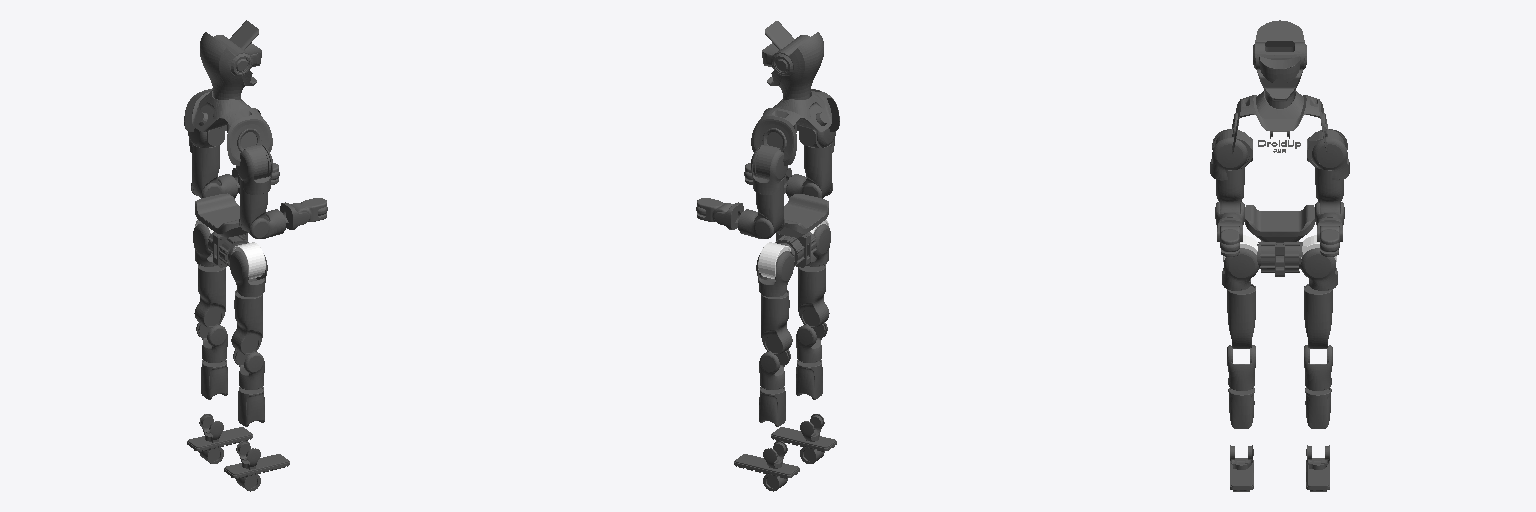
--- What the picture shows (computed from the rendered views, not written in the file) ---
Views: 3 orthographic renders of the robot side by side, from view 1: azimuth 30°, elevation 25°; view 2: azimuth 150°, elevation 25°; view 3: azimuth 270°, elevation 25°.
Robot: E1 — 30 links, 29 joints (12 revolute, 17 fixed); root link pelvis; default pose: all joints at 0.
Visible links, largest first — view 1: torso_link, right_knee_link, left_knee_link, left_hip_yaw_link, right_hip_yaw_link, right_ankle_pitch_link, left_ankle_pitch_link, left_shoulder_yaw_link, right_hip_roll_link, right_shoulder_roll_link, right_shoulder_yaw_link, pelvis (+4 smaller); view 2: torso_link, left_knee_link, right_knee_link, right_hip_yaw_link, left_hip_yaw_link, left_ankle_pitch_link, right_ankle_pitch_link, right_shoulder_yaw_link, left_hip_roll_link, left_shoulder_roll_link, left_shoulder_yaw_link, pelvis (+4 smaller); view 3: torso_link, left_knee_link, right_knee_link, left_hip_yaw_link, right_hip_yaw_link, pelvis, right_shoulder_roll_link, left_hip_roll_link, left_shoulder_roll_link, right_hip_roll_link, left_shoulder_yaw_link, right_shoulder_yaw_link (+2 smaller).
Boxes of the visible links, x1,y1,x2,y2 form: torso_link: [184, 20, 272, 237]; right_knee_link: [233, 349, 264, 426]; left_knee_link: [196, 322, 227, 399]; left_hip_yaw_link: [194, 264, 225, 327]; right_hip_yaw_link: [231, 290, 262, 354]; right_ankle_pitch_link: [224, 441, 289, 478]; left_ankle_pitch_link: [187, 414, 252, 451]; left_shoulder_yaw_link: [192, 144, 221, 198]; right_hip_roll_link: [230, 251, 267, 296]; right_shoulder_roll_link: [236, 145, 272, 194]; right_shoulder_yaw_link: [240, 178, 269, 233]; pelvis: [208, 232, 248, 267]; torso_link: [751, 21, 839, 237]; left_knee_link: [759, 349, 790, 426]; right_knee_link: [796, 322, 827, 399]; right_hip_yaw_link: [798, 264, 829, 327]; left_hip_yaw_link: [761, 290, 792, 354]; left_ankle_pitch_link: [734, 441, 799, 478]; right_ankle_pitch_link: [771, 414, 836, 451]; right_shoulder_yaw_link: [802, 144, 831, 198]; left_hip_roll_link: [756, 251, 793, 296]; left_shoulder_roll_link: [751, 145, 787, 194]; left_shoulder_yaw_link: [754, 178, 783, 233]; pelvis: [775, 232, 816, 267]; torso_link: [1232, 20, 1327, 241]; left_knee_link: [1304, 345, 1332, 428]; right_knee_link: [1227, 345, 1255, 428]; left_hip_yaw_link: [1304, 284, 1332, 348]; right_hip_yaw_link: [1227, 284, 1255, 348]; pelvis: [1257, 241, 1302, 276]; right_shoulder_roll_link: [1210, 129, 1247, 180]; left_hip_roll_link: [1301, 248, 1337, 290]; left_shoulder_roll_link: [1312, 129, 1349, 180]; right_hip_roll_link: [1222, 248, 1258, 290]; left_shoulder_yaw_link: [1315, 167, 1343, 213]; right_shoulder_yaw_link: [1216, 167, 1244, 213].
Bounding box of the posed robot: 0.3801 × 0.418 × 1.53 m (x, y, z).
Meshes: 30 distinct files referenced, 29 mesh visuals loaded (29 binary STL); not drawn: 1 (reference not matched to a file when rendering).

The robot description file, URDF, robot "E1":
<robot name="E1">

  <!-- <mujoco>
    <compiler meshdir="./meshes" balanceinertia="true" discardvisual="false" />
  </mujoco>

  <link name="world"></link>
  <joint name="floating_base_joint" type="floating">
    <parent link="world"/>
    <child link="pelvis"/>
  </joint> -->

  <link name="pelvis">
    <inertial>
      <origin xyz="-1.83413794531939E-07 2.98943988592675E-07 0.0134170656558657" rpy="0 0 0" />
      <mass value="2.73" />
      <inertia ixx="0.00792451" ixy="-0.00000201" ixz="0.00022435" iyy="0.00661284" iyz="0.00000816" izz="0.00695262" />
    </inertial>
    <visual>
      <origin xyz="0 0 0" rpy="0 0 0" />
      <geometry>
        <mesh filename="meshes/pelvis.STL" />
      </geometry>
      <material name="">
        <color rgba="0.4 0.4 0.4 0.3" />
      </material>
    </visual>
    <!-- <collision>
      <origin xyz="0 0 0" rpy="0 0 0" />
      <geometry>
        <box size="0.11 0.11 0.08" />
      </geometry>
    </collision> -->
  </link>
  <link name="left_hip_pitch_link">
    <inertial>
      <origin xyz="0.00029538 0.03084445 -0.00578934" rpy="0 0 0" />
      <mass value="0.145" />
      <inertia ixx="0.00011256" ixy="0.00002214" ixz="-0.00000468" iyy="0.00005128" iyz="-0.00002099" izz="0.00010702" />
    </inertial>
    <visual>
      <origin xyz="0 0 0" rpy="0 0 0" />
      <geometry>
        <mesh filename="meshes/left_hip_pitch_link.STL" />
      </geometry>
      <material name="">
        <color rgba="1 1 1 1" />
      </material>
    </visual>
  </link>
  <joint name="left_hip_pitch_joint" type="revolute">
    <origin xyz="0 0.0575 0" rpy="0 0 0" />
    <parent link="pelvis" />
    <child link="left_hip_pitch_link" />
    <axis xyz="0 1 0" />
    <limit lower="-1.8" upper="1.57" effort="36" velocity="50.265" />
  </joint>
  <link name="left_hip_roll_link">
    <inertial>
      <origin xyz="-0.00147244 0.00041537 -0.03721449" rpy="0 0 0" />
      <mass value="1.39" />
      <inertia ixx="0.002567" ixy="0.00001559" ixz="-0.00006696" iyy="0.00235625" iyz="0.00000301" izz="0.00145182" />
    </inertial>
    <visual>
      <origin xyz="0 0 0" rpy="0 0 0" />
      <geometry>
        <mesh filename="meshes/left_hip_roll_link.STL" />
      </geometry>
      <material name="">
        <color rgba="0.4 0.4 0.4 0.3" />
      </material>
    </visual>
    <!-- <collision>
      <origin xyz="0 0 0" rpy="0 1.5708 0" />
      <geometry>
        <cylinder radius="0.05" length="0.09" />
      </geometry>
    </collision> -->
  </link>
  <joint name="left_hip_roll_joint" type="revolute">
    <origin xyz="0 0.0575 -0.015" rpy="0 0 0" />
    <parent link="left_hip_pitch_link" />
    <child link="left_hip_roll_link" />
    <axis xyz="1 0 0" />
    <limit lower="-0.1745" upper="1.57" effort="60" velocity="20.42" />
  </joint>
  <link name="left_hip_yaw_link">
    <inertial>
      <origin xyz="0.00070152 0.00025365 -0.08614663" rpy="0 0 0" />
      <mass value="2.32" />
      <inertia ixx="0.01611989" ixy="-0.00000019" ixz="-0.00028259" iyy="0.01646544" iyz="0.00024296" izz="0.00278263" />
    </inertial>
    <visual>
      <origin xyz="0 0 0" rpy="0 0 0" />
      <geometry>
        <mesh filename="meshes/left_hip_yaw_link.STL" />
      </geometry>
      <material name="">
        <color rgba="0.4 0.4 0.4 0.3" />
      </material>
    </visual>
    <collision>
      <origin xyz="0 0 -0.085" rpy="0 0 0" />
      <geometry>
        <cylinder radius="0.06" length="0.2" />
      </geometry>
    </collision>
  </link>
  <joint name="left_hip_yaw_joint" type="revolute">
    <origin xyz="0 0 -0.098" rpy="0 0 0" />
    <parent link="left_hip_roll_link" />
    <child link="left_hip_yaw_link" />
    <axis xyz="0 0 1" />
    <limit lower="-1.0" upper="1.0" effort="36" velocity="50.265" />
  </joint>
  <link name="left_knee_link">
    <inertial>
      <origin xyz="0.00414084 -0.00040825 -0.13326938" rpy="0 0 0" />
      <mass value="0.785" />
      <inertia ixx="0.01156593" ixy="0.00000094" ixz="-0.00002291" iyy="0.01158947" iyz="0.00008706" izz="0.00032382" />
    </inertial>
    <visual>
      <origin xyz="0 0 0" rpy="0 0 0" />
      <geometry>
        <mesh filename="meshes/left_knee_link.STL" />
      </geometry>
      <material name="">
        <color rgba="0.4 0.4 0.4 0.3" />
      </material>
    </visual>
    <collision>
      <origin xyz="0.008 0 -0.165" rpy="0 0.04 0" />
      <geometry>
        <cylinder radius="0.045" length="0.23" />
      </geometry>
    </collision>
  </link>
  <joint name="left_knee_joint" type="revolute">
    <origin xyz="0 0 -0.222" rpy="0 0 0" />
    <parent link="left_hip_yaw_link" />
    <child link="left_knee_link" />
    <axis xyz="0 1 0" />
    <limit lower="0" upper="2.4435" effort="60" velocity="30.16" />
  </joint>
  <link name="left_ankle_pitch_link">
    <inertial>
      <origin xyz="-0.01426716 -0.00101925 -0.04298429" rpy="0 0 0" />
      <mass value="0.597" />
      <inertia ixx="0.00065314" ixy="-0.00001099" ixz="0.00013946" iyy="0.00072568" iyz="-0.00003869" izz="0.00044755" />
    </inertial>
    <visual>
      <origin xyz="0 0 0" rpy="0 0 0" />
      <geometry>
        <mesh filename="meshes/left_ankle_pitch_link.STL" />
      </geometry>
      <material name="">
        <color rgba="0.4 0.4 0.4 1" />
      </material>
    </visual>
  </link>
  <joint name="left_ankle_pitch_joint" type="revolute">
    <origin xyz="0 0 -0.32" rpy="0 0 0" />
    <parent link="left_knee_link" />
    <child link="left_ankle_pitch_link" />
    <axis xyz="0 1 0" />
    <limit lower="-0.87" upper="0.35" effort="36" velocity="50.265" />
  </joint>
  <link name="left_ankle_roll_link">
    <inertial>
      <origin xyz="0.01152056 0 -0.02947055" rpy="0 0 0" />
      <mass value="0.294" />
      <inertia ixx="0.0001508" ixy="0" ixz="-0.00002398" iyy="0.00074194" iyz="0" izz="0.00079391" />
    </inertial>
    <visual>
      <origin xyz="0 0 0" rpy="0 0 0" />
      <geometry>
        <mesh filename="meshes/left_ankle_roll_link.STL" />
      </geometry>
      <material name="">
        <color rgba="0.4 0.4 0.4 0.3" />
      </material>
    </visual>
    <collision>
      <origin xyz="0.02 0 -0.027" rpy="0 0 0" />
      <geometry>
        <box size="0.18 0.07 0.025" />
      </geometry>
    </collision>
  </link>
  <joint name="left_ankle_roll_joint" type="revolute">
    <origin xyz="0 0 -0.06" rpy="0 0 0" />
    <parent link="left_ankle_pitch_link" />
    <child link="left_ankle_roll_link" />
    <axis xyz="1 0 0" />
    <limit lower="-0.44" upper="0.44" effort="14" velocity="32.99" />
  </joint>
  <link name="right_hip_pitch_link">
    <inertial>
      <origin xyz="0.00029538 -0.03084445 -0.00578934" rpy="0 0 0" />
      <mass value="0.145" />
      <inertia ixx="0.00011256" ixy="-0.00002214" ixz="-0.00000468" iyy="0.00005128" iyz="0.00002099" izz="0.00010702" />
    </inertial>
    <visual>
      <origin xyz="0 0 0" rpy="0 0 0" />
      <geometry>
        <mesh filename="meshes/right_hip_pitch_link.STL" />
      </geometry>
      <material name="">
        <color rgba="1 1 1 1" />
      </material>
    </visual>
  </link>
  <joint name="right_hip_pitch_joint" type="revolute">
    <origin xyz="0 -0.0575 0" rpy="0 0 0" />
    <parent link="pelvis" />
    <child link="right_hip_pitch_link" />
    <axis xyz="0 1 0" />
    <limit lower="-1.8" upper="1.57" effort="36" velocity="50.265" />
  </joint>
  <link name="right_hip_roll_link">
    <inertial>
      <origin xyz="-0.00147237 -0.00041532 -0.03721455" rpy="0 0 0" />
      <mass value="1.39" />
      <inertia ixx="0.00256699" ixy="-0.00001559" ixz="-0.00006696" iyy="0.00235625" iyz="-0.00000302" izz="0.00145182" />
    </inertial>
    <visual>
      <origin xyz="0 0 0" rpy="0 0 0" />
      <geometry>
        <mesh filename="meshes/right_hip_roll_link.STL" />
      </geometry>
      <material name="">
        <color rgba="0.4 0.4 0.4 0.3" />
      </material>
    </visual>
    <!-- <collision>
      <origin xyz="0 0 0" rpy="0 1.5708 0" />
      <geometry>
        <cylinder radius="0.05" length="0.09" />
      </geometry>
    </collision> -->
  </link>
  <joint name="right_hip_roll_joint" type="revolute">
    <origin xyz="0 -0.0575 -0.015" rpy="0 0 0" />
    <parent link="right_hip_pitch_link" />
    <child link="right_hip_roll_link" />
    <axis xyz="1 0 0" />
    <limit lower="-1.57" upper="0.1745" effort="60" velocity="20.42" />
  </joint>
  <link name="right_hip_yaw_link">
    <inertial>
      <origin xyz="0.00070152 -0.00025365 -0.08614688" rpy="0 0 0" />
      <mass value="2.32" />
      <inertia ixx="0.01611990" ixy="0.00000018" ixz="-0.00028259" iyy="0.01646544" iyz="-0.00024296" izz="0.00278262" />
    </inertial>
    <visual>
      <origin xyz="0 0 0" rpy="0 0 0" />
      <geometry>
        <mesh filename="meshes/right_hip_yaw_link.STL" />
      </geometry>
      <material name="">
        <color rgba="0.4 0.4 0.4 0.3" />
      </material>
    </visual>
    <collision>
      <origin xyz="0 0 -0.085" rpy="0 0 0" />
      <geometry>
        <cylinder radius="0.06" length="0.2" />
      </geometry>
    </collision>
  </link>
  <joint name="right_hip_yaw_joint" type="revolute">
    <origin xyz="0 0 -0.098" rpy="0 0 0" />
    <parent link="right_hip_roll_link" />
    <child link="right_hip_yaw_link" />
    <axis xyz="0 0 1" />
    <limit lower="-1.0" upper="1.0" effort="36" velocity="50.265" />
  </joint>
  <link name="right_knee_link">
    <inertial>
      <origin xyz="0.00414085 0.00040825 -0.13326949" rpy="0 0 0" />
      <mass value="0.785" />
      <inertia ixx="0.01156594" ixy="-0.00000094" ixz="-0.00002291" iyy="0.01158948" iyz="-0.00008706" izz="0.00032382" />
    </inertial>
    <visual>
      <origin xyz="0 0 0" rpy="0 0 0" />
      <geometry>
        <mesh filename="meshes/right_knee_link.STL" />
      </geometry>
      <material name="">
        <color rgba="0.4 0.4 0.4 0.3" />
      </material>
    </visual>
    <collision>
      <origin xyz="0.008 0 -0.165" rpy="0 0.04 0" />
      <geometry>
        <cylinder radius="0.045" length="0.23" />
      </geometry>
    </collision>
  </link>
  <joint name="right_knee_joint" type="revolute">
    <origin xyz="0 0 -0.222" rpy="0 0 0" />
    <parent link="right_hip_yaw_link" />
    <child link="right_knee_link" />
    <axis xyz="0 1 0" />
    <limit lower="0" upper="2.4435" effort="60" velocity="30.16" />
  </joint>
  <link name="right_ankle_pitch_link">
    <inertial>
      <origin xyz="-0.01426715 0.00101913 -0.0429843" rpy="0 0 0" />
      <mass value="0.597" />
      <inertia ixx="0.00065314" ixy="0.00001099" ixz="0.00013946" iyy="0.00072569" iyz="0.00003869" izz="0.00044755" />
    </inertial>
    <visual>
      <origin xyz="0 0 0" rpy="0 0 0" />
      <geometry>
        <mesh filename="meshes/right_ankle_pitch_link.STL" />
      </geometry>
      <material name="">
        <color rgba="0.4 0.4 0.4 1" />
      </material>
    </visual>
  </link>
  <joint name="right_ankle_pitch_joint" type="revolute">
    <origin xyz="0 0 -0.32" rpy="0 0 0" />
    <parent link="right_knee_link" />
    <child link="right_ankle_pitch_link" />
    <axis xyz="0 1 0" />
    <limit lower="-0.87" upper="0.35" effort="36" velocity="50.265" />
  </joint>
  <link name="right_ankle_roll_link">
    <inertial>
      <origin xyz="0.01152056 0 -0.02947055" rpy="0 0 0" />
      <mass value="0.294" />
      <inertia ixx="0.0001508" ixy="0" ixz="-0.00002398" iyy="0.00074194" iyz="0" izz="0.00079391" />
    </inertial>
    <visual>
      <origin xyz="0 0 0" rpy="0 0 0" />
      <geometry>
        <mesh filename="meshes/right_ankle_roll_link.STL" />
      </geometry>
      <material name="">
        <color rgba="0.4 0.4 0.4 0.3" />
      </material>
    </visual>
    <collision>
      <origin xyz="0.02 0 -0.027" rpy="0 0 0" />
      <geometry>
        <box size="0.18 0.07 0.025" />
      </geometry>
    </collision>
  </link>
  <joint name="right_ankle_roll_joint" type="revolute">
    <origin xyz="0 0 -0.06" rpy="0 0 0" />
    <parent link="right_ankle_pitch_link" />
    <child link="right_ankle_roll_link" />
    <axis xyz="1 0 0" />
    <limit lower="-0.44" upper="0.44" effort="14" velocity="32.99" />
  </joint>
  <link name="torso_link">
    <inertial>
      <origin xyz="-0.000953250891786016 4.48463714895152E-06 0.1267079838967867" rpy="0 0 0" />
      <mass value="6.5" />
      <inertia ixx="0.05533478" ixy="0.00020066" ixz="0.00006865" iyy="0.04385891" iyz="0.00036014" izz="0.0199517" />
    </inertial>
    <visual>
      <origin xyz="0 0 0" rpy="0 0 0" />
      <geometry>
        <mesh filename="meshes/torso_link.STL" />
      </geometry>
      <material name="">
        <color rgba="0.419607843137255 0.419607843137255 0.419607843137255 1" />
      </material>
    </visual>
    <collision>
      <origin xyz="0 0 0.13" rpy="0 0 0" />
      <geometry>
        <box size="0.16 0.16 0.30" />
      </geometry>
    </collision>
  </link>
  <joint name="waist_yaw_joint" type="fixed">
    <origin xyz="0 0 0.111" rpy="0 0 0" />
    <parent link="pelvis" />
    <child link="torso_link" />
    <axis xyz="0 0 1" />
    <limit lower="-1.57" upper="1.57" effort="60" velocity="20.42" />
  </joint>
  <link name="left_shoulder_pitch_link">
    <inertial>
      <origin xyz="-0.0029314 0.04236878 0.00000234" rpy="0 0 0" />
      <mass value="0.86" />
      <inertia ixx="0.00102909" ixy="-0.00002678" ixz="-0.00000002" iyy="0.00061621" iyz="-0.00000002" izz="0.00086617" />
    </inertial>
    <visual>
      <origin xyz="0 0 0" rpy="0 0 0" />
      <geometry>
        <mesh filename="meshes/left_shoulder_pitch_link.STL" />
      </geometry>
      <material name="">
        <color rgba="0.419607843137255 0.419607843137255 0.419607843137255 1" />
      </material>
    </visual>
  </link>
  <joint name="left_shoulder_pitch_joint" type="fixed">
    <origin xyz="0 0.095 0.239" rpy="0 0 0" />
    <parent link="torso_link" />
    <child link="left_shoulder_pitch_link" />
    <axis xyz="0 1 0" />
    <limit lower="-1.0472" upper="2.7925" effort="36" velocity="10.47" />
  </joint>
  <link name="left_shoulder_roll_link">
    <inertial>
      <origin xyz="0.00078196 -0.00016662 -0.02897185" rpy="0 0 0" />
      <mass value="0.1" />
      <inertia ixx="0.00006297" ixy="0.00000007" ixz="0.0000124" iyy="0.00006244" iyz="0.0000002" izz="0.00002735" />
    </inertial>
    <visual>
      <origin xyz="0 0 0" rpy="0 0 0" />
      <geometry>
        <mesh filename="meshes/left_shoulder_roll_link.STL" />
      </geometry>
      <material name="">
        <color rgba="0.4 0.4 0.4 0.3" />
      </material>
    </visual>
    <collision>
      <origin xyz="0 0 0" rpy="0 1.5708 0" />
      <geometry>
        <cylinder radius="0.044" length="0.05" />
      </geometry>
    </collision>
  </link>
  <joint name="left_shoulder_roll_joint" type="fixed">
    <origin xyz="0 0.055 0" rpy="0 0 0" />
    <parent link="left_shoulder_pitch_link" />
    <child link="left_shoulder_roll_link" />
    <axis xyz="1 0 0" />
    <limit lower="-0.1745" upper="2.9671" effort="36" velocity="10.47" />
  </joint>
  <link name="left_shoulder_yaw_link">
    <inertial>
      <origin xyz="-0.00317011 -0.0005976 -0.07021454" rpy="0 0 0" />
      <mass value="1.55" />
      <inertia ixx="0.00649411" ixy="0.00005943" ixz="0.00025794" iyy="0.00640237" iyz="-0.00001492" izz="0.0014487" />
    </inertial>
    <visual>
      <origin xyz="0 0 0" rpy="0 0 0" />
      <geometry>
        <mesh filename="meshes/left_shoulder_yaw_link.STL" />
      </geometry>
      <material name="">
        <color rgba="0.4 0.4 0.4 0.3" />
      </material>
    </visual>
    <collision>
      <origin xyz="0 0 -0.06" rpy="0 0 0" />
      <geometry>
        <cylinder radius="0.045" length="0.09" />
      </geometry>
    </collision>
  </link>
  <joint name="left_shoulder_yaw_joint" type="fixed">
    <origin xyz="0 0 -0.051" rpy="0 0 0" />
    <parent link="left_shoulder_roll_link" />
    <child link="left_shoulder_yaw_link" />
    <axis xyz="0 0 1" />
    <limit lower="-2.618" upper="2.618" effort="14" velocity="27.28" />
  </joint>
  <link name="left_elbow_link">
    <inertial>
      <origin xyz="0.08296731 -0.00030352 -0.00120015" rpy="0 0 0" />
      <mass value="0.51" />
      <inertia ixx="0.00044171" ixy="0.00001498" ixz="0.0000316" iyy="0.0006862" iyz="-0.00000023" izz="0.00080540" />
    </inertial>
    <visual>
      <origin xyz="0 0 0" rpy="0 0 0" />
      <geometry>
        <mesh filename="meshes/left_elbow_link.STL" />
      </geometry>
      <material name="">
        <color rgba="0.4 0.4 0.4 0.3" />
      </material>
    </visual>
    <collision>
      <origin xyz="0.09 0 0" rpy="0 1.5708 0" />
      <geometry>
        <cylinder radius="0.045" length="0.05" />
      </geometry>
    </collision>
  </link>
  <joint name="left_elbow_joint" type="fixed">
    <origin xyz="0 0 -0.159" rpy="0 0 0" />
    <parent link="left_shoulder_yaw_link" />
    <child link="left_elbow_link" />
    <axis xyz="0 1 0" />
    <limit lower="-0.6981" upper="1.5708" effort="28" velocity="27.28" />
  </joint>
  <link name="left_wrist_roll_link">
    <inertial>
      <origin xyz="0.05840973 -0.00030711 -0.00006564" rpy="0 0 0" />
      <mass value="0.38" />
      <inertia ixx="0.00024702" ixy="0.00000162" ixz="-0.00000048" iyy="0.00027052" iyz="-0.00000287" izz="0.00035336" />
    </inertial>
    <visual>
      <origin xyz="0 0 0" rpy="0 0 0" />
      <geometry>
        <mesh filename="meshes/left_wrist_roll_link.STL" />
      </geometry>
      <material name="">
        <color rgba="0.4 0.4 0.4 0.3" />
      </material>
    </visual>
  </link>
  <joint name="left_wrist_roll_joint" type="fixed">
    <origin xyz="0.125 0 0" rpy="0 0 0" />
    <parent link="left_elbow_link" />
    <child link="left_wrist_roll_link" />
    <axis xyz="1 0 0" />
    <limit lower="-2.1817" upper="2.1817" effort="36" velocity="10.47" />
  </joint>
  <link name="left_wrist_pitch_link">
    <inertial>
      <origin xyz="0.06200956 -0.00270472 0.00081678" rpy="0 0 0" />
      <mass value="0.005" />
      <inertia ixx="0.0001926" ixy="0.00001188" ixz="-0.00002839" iyy="0.00022487" iyz="-0.00000555" izz="0.00022890" />
    </inertial>
    <visual>
      <origin xyz="0 0 0" rpy="0 0 0" />
      <geometry>
        <mesh filename="meshes/left_wrist_pitch_link.STL" />
      </geometry>
      <material name="">
        <color rgba="0.419607843137255 0.419607843137255 0.419607843137255 1" />
      </material>
    </visual>
    <collision>
      <origin xyz="0.07 0 0" rpy="0 0 0" />
      <geometry>
        <sphere radius="0.038" />
      </geometry>
    </collision>
  </link>
  <joint name="left_wrist_pitch_joint" type="fixed">
    <origin xyz="0.035 0 0" rpy="0 0 0" />
    <parent link="left_wrist_roll_link" />
    <child link="left_wrist_pitch_link" />
    <axis xyz="0 1 0" />
    <limit lower="-0.6109" upper="0.6109" effort="14" velocity="27.28" />
  </joint>
  <link name="left_wrist_yaw_link">
    <inertial>
      <origin xyz="-2.77555756156289E-17 7.38853422888042E-14 7.99638133486269E-14" rpy="0 0 0" />
      <mass value="0.2" />
      <inertia ixx="1.58560821923607E-05" ixy="3.59737400518439E-25" ixz="1.90545782846007E-21" iyy="1.58560821923607E-05" iyz="-1.49030555787401E-21" izz="2.5958497404233E-05" />
    </inertial>
    <visual>
      <origin xyz="0 0 0" rpy="0 0 0" />
      <geometry>
        <mesh filename="meshes/left_wrist_yaw_link.STL" />
      </geometry>
      <material name="">
        <color rgba="0.4 0.4 0.4 0.3" />
      </material>
    </visual>
  </link>
  <joint name="left_wrist_yaw_joint" type="fixed">
    <origin xyz="0.07 0 0" rpy="0 0 0" />
    <parent link="left_wrist_pitch_link" />
    <child link="left_wrist_yaw_link" />
    <axis xyz="0 0 1" />
    <limit lower="-1.5708" upper="1.5708" effort="14" velocity="27.28" />
  </joint>
  <link name="right_shoulder_pitch_link">
    <inertial>
      <origin xyz="-0.0029314 -0.04236878 -0.00000234" rpy="0 0 0" />
      <mass value="0.86" />
      <inertia ixx="0.00102909" ixy="0.00002678" ixz="0.00000002" iyy="0.00061621" iyz="-0.00000002" izz="0.00086617" />
    </inertial>
    <visual>
      <origin xyz="0 0 0" rpy="0 0 0" />
      <geometry>
        <mesh filename="meshes/right_shoulder_pitch_link.STL" />
      </geometry>
      <material name="">
        <color rgba="0.419607843137255 0.419607843137255 0.419607843137255 1" />
      </material>
    </visual>
  </link>
  <joint name="right_shoulder_pitch_joint" type="fixed">
    <origin xyz="0 -0.095 0.239" rpy="0 0 0" />
    <parent link="torso_link" />
    <child link="right_shoulder_pitch_link" />
    <axis xyz="0 1 0" />
    <limit lower="-1.0472" upper="2.7925" effort="36" velocity="10.47" />
  </joint>
  <link name="right_shoulder_roll_link">
    <inertial>
      <origin xyz="0.00078196 0 -0.02897233" rpy="0 0 0" />
      <mass value="0.1" />
      <inertia ixx="0.00006297" ixy="0" ixz="0.00001240" iyy="0.00006245" iyz="0" izz="0.00002735" />
    </inertial>
    <visual>
      <origin xyz="0 0 0" rpy="0 0 0" />
      <geometry>
        <mesh filename="meshes/right_shoulder_roll_link.STL" />
      </geometry>
      <material name="">
        <color rgba="0.4 0.4 0.4 0.3" />
      </material>
    </visual>
    <collision>
      <origin xyz="0 0 0" rpy="0 1.5708 0" />
      <geometry>
        <cylinder radius="0.044" length="0.05" />
      </geometry>
    </collision>
  </link>
  <joint name="right_shoulder_roll_joint" type="fixed">
    <origin xyz="0 -0.055 0" rpy="0 0 0" />
    <parent link="right_shoulder_pitch_link" />
    <child link="right_shoulder_roll_link" />
    <axis xyz="1 0 0" />
    <limit lower="-2.9671" upper="0.1745" effort="36" velocity="10.47" />
  </joint>
  <link name="right_shoulder_yaw_link">
    <inertial>
      <origin xyz="-0.00317012 0.00059760 -0.07021462" rpy="0 0 0" />
      <mass value="1.55" />
      <inertia ixx="0.00649412" ixy="-0.00005943" ixz="0.00025794" iyy="0.00640237" iyz="0.00001492" izz="0.00144870" />
    </inertial>
    <visual>
      <origin xyz="0 0 0" rpy="0 0 0" />
      <geometry>
        <mesh filename="meshes/right_shoulder_yaw_link.STL" />
      </geometry>
      <material name="">
        <color rgba="0.4 0.4 0.4 0.3" />
      </material>
    </visual>
    <collision>
      <origin xyz="0 0 -0.06" rpy="0 0 0" />
      <geometry>
        <cylinder radius="0.045" length="0.09" />
      </geometry>
    </collision>
  </link>
  <joint name="right_shoulder_yaw_joint" type="fixed">
    <origin xyz="0 0 -0.051" rpy="0 0 0" />
    <parent link="right_shoulder_roll_link" />
    <child link="right_shoulder_yaw_link" />
    <axis xyz="0 0 1" />
    <limit lower="-2.618" upper="2.618" effort="14" velocity="27.28" />
  </joint>
  <link name="right_elbow_link">
    <inertial>
      <origin xyz="0.08296729 0.00030351 -0.00120015" rpy="0 0 0" />
      <mass value="0.51" />
      <inertia ixx="0.00044171" ixy="-0.00001498" ixz="0.0000316" iyy="0.0006862" iyz="0.00000023" izz="0.0008054" />
    </inertial>
    <visual>
      <origin xyz="0 0 0" rpy="0 0 0" />
      <geometry>
        <mesh filename="meshes/right_elbow_link.STL" />
      </geometry>
      <material name="">
        <color rgba="0.4 0.4 0.4 0.3" />
      </material>
    </visual>
    <collision>
      <origin xyz="0.09 0 0" rpy="0 1.5708 0" />
      <geometry>
        <cylinder radius="0.045" length="0.05" />
      </geometry>
    </collision>
  </link>
  <joint name="right_elbow_joint" type="fixed">
    <origin xyz="0 0 -0.159" rpy="0 0 0" />
    <parent link="right_shoulder_yaw_link" />
    <child link="right_elbow_link" />
    <axis xyz="0 1 0" />
    <limit lower="-0.6981" upper="1.5708" effort="36" velocity="10.47" />
  </joint>
  <link name="right_wrist_roll_link">
    <inertial>
      <origin xyz="0.05840973 0.00030712 -0.00006564" rpy="0 0 0" />
      <mass value="0.38" />
      <inertia ixx="0.00024703" ixy="-0.00000162" ixz="-0.00000048" iyy="0.00027052" iyz="0.00000287" izz="0.00035335" />
    </inertial>
    <visual>
      <origin xyz="0 0 0" rpy="0 0 0" />
      <geometry>
        <mesh filename="meshes/right_wrist_roll_link.STL" />
      </geometry>
      <material name="">
        <color rgba="0.4 0.4 0.4 0.3" />
      </material>
    </visual>
  </link>
  <joint name="right_wrist_roll_joint" type="fixed">
    <origin xyz="0.125 0 0" rpy="0 0 0" />
    <parent link="right_elbow_link" />
    <child link="right_wrist_roll_link" />
    <axis xyz="1 0 0" />
    <limit lower="-2.1817" upper="2.1817" effort="14" velocity="27.28" />
  </joint>
  <link name="right_wrist_pitch_link">
    <inertial>
      <origin xyz="0.06200959 0.00270479 0.00081679" rpy="0 0 0" />
      <mass value="0.005" />
      <inertia ixx="0.00019260" ixy="-0.00001188" ixz="-0.00002839" iyy="0.00022487" iyz="0.00000555" izz="0.00022890" />
    </inertial>
    <visual>
      <origin xyz="0 0 0" rpy="0 0 0" />
      <geometry>
        <mesh filename="meshes/right_wrist_pitch_link.STL" />
      </geometry>
      <material name="">
        <color rgba="0.419607843137255 0.419607843137255 0.419607843137255 1" />
      </material>
    </visual>
    <collision>
      <origin xyz="0.07 0 0" rpy="0 0 0" />
      <geometry>
        <sphere radius="0.038" />
      </geometry>
    </collision>
  </link>
  <joint name="right_wrist_pitch_joint" type="fixed">
    <origin xyz="0.035 0 0" rpy="0 0 0" />
    <parent link="right_wrist_roll_link" />
    <child link="right_wrist_pitch_link" />
    <axis xyz="0 1 0" />
    <limit lower="-0.6109" upper="0.6109" effort="14" velocity="27.28" />
  </joint>
  <link name="right_wrist_yaw_link">
    <inertial>
      <origin xyz="-2.77555756156289E-17 7.38298311375729E-14 7.99360577730113E-14" rpy="0 0 0" />
      <mass value="0.2" />
      <inertia ixx="1.58560821923608E-05" ixy="1.50463276905253E-35" ixz="1.9053137318976E-21" iyy="1.58560821923608E-05" iyz="-1.78269439098819E-21" izz="2.5958497404233E-05" />
    </inertial>
    <visual>
      <origin xyz="0 0 0" rpy="0 0 0" />
      <geometry>
        <mesh filename="meshes/right_wrist_yaw_link.STL" />
      </geometry>
      <material name="">
        <color rgba="0.4 0.4 0.4 0.3" />
      </material>
    </visual>
  </link>
  <joint name="right_wrist_yaw_joint" type="fixed">
    <origin xyz="0.07 0 0" rpy="0 0 0" />
    <parent link="right_wrist_pitch_link" />
    <child link="right_wrist_yaw_link" />
    <axis xyz="0 0 1" />
    <limit lower="-1.5708" upper="1.5708" effort="14" velocity="27.28" />
  </joint>
  <link name="head_pitch_link">
    <inertial>
      <origin xyz="-0.00835 -2.3792E-16 0.054887" rpy="0 0 0" />
      <mass value="0.4" />
      <inertia ixx="0.00025398" ixy="8.4566E-19" ixz="1.8686E-05" iyy="0.00022478" iyz="-1.1903E-18" izz="0.00011678" />
    </inertial>
    <visual>
      <origin xyz="0 0 0" rpy="0 0 0" />
      <geometry>
        <mesh filename="meshes/head_pitch_link.STL" />
      </geometry>
      <material name="">
        <color rgba="0.41961 0.41961 0.41961 1" />
      </material>
    </visual>
  </link>
  <joint name="head_pitch_joint" type="fixed">
    <origin xyz="0 0 0.304" rpy="0 0 0" />
    <parent link="torso_link" />
    <child link="head_pitch_link" />
    <axis xyz="0 1 0" />
    <limit lower="-0.7854" upper="1.5708" effort="14" velocity="27.28" />
  </joint>
  <link name="head_yaw_link">
    <inertial>
      <origin xyz="0.024424 -1.0139E-06 0.020575" rpy="0 0 0" />
      <mass value="1" />
      <inertia ixx="0.0026181" ixy="1.1871E-07" ixz="0.00067224" iyy="0.003462" iyz="-1.0546E-08" izz="0.0028155" />
    </inertial>
    <visual>
      <origin xyz="0 0 0" rpy="0 0 0" />
      <geometry>
        <mesh filename="meshes/head_yaw_link.STL" />
      </geometry>
      <material name="">
        <color rgba="0.41961 0.41961 0.41961 1" />
      </material>
    </visual>
    <collision>
      <origin xyz="0.02 0 0.02" rpy="0 0 0" />
      <geometry>
        <box size="0.10 0.13 0.12" />
      </geometry>
    </collision>
  </link>
  <joint name="head_yaw_joint" type="fixed">
    <origin xyz="-0.01 0 0.095" rpy="0 0 0" />
    <parent link="head_pitch_link" />
    <child link="head_yaw_link" />
    <axis xyz="0 0 1" />
    <limit lower="-3.1415" upper="3.1415" effort="14" velocity="27.28" />
  </joint>
</robot>
